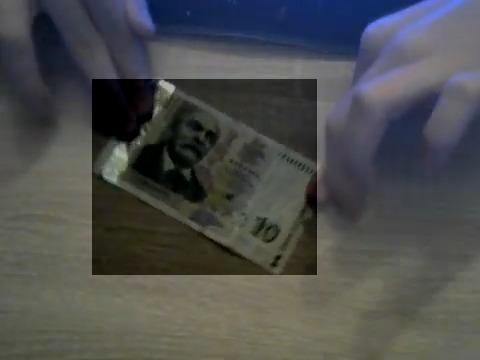10leva: (92, 79, 317, 275)
